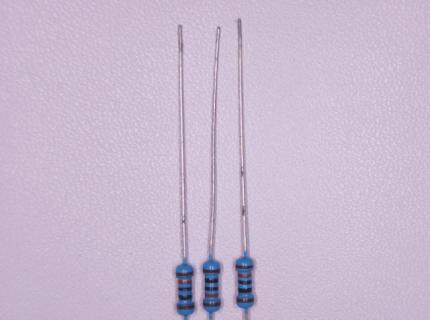Black band: (238, 287, 252, 293), (179, 294, 192, 300), (205, 278, 218, 283), (205, 287, 219, 291), (238, 280, 252, 284), (179, 287, 192, 291)
Brown band: (176, 271, 194, 277), (177, 304, 195, 310), (237, 297, 254, 303), (203, 302, 221, 307), (236, 264, 253, 269), (203, 269, 220, 273)
Orange band: (238, 273, 252, 278), (178, 280, 192, 284), (205, 293, 218, 297)
